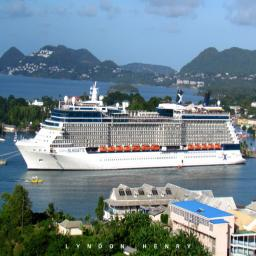cruises: (17, 78, 254, 174)
